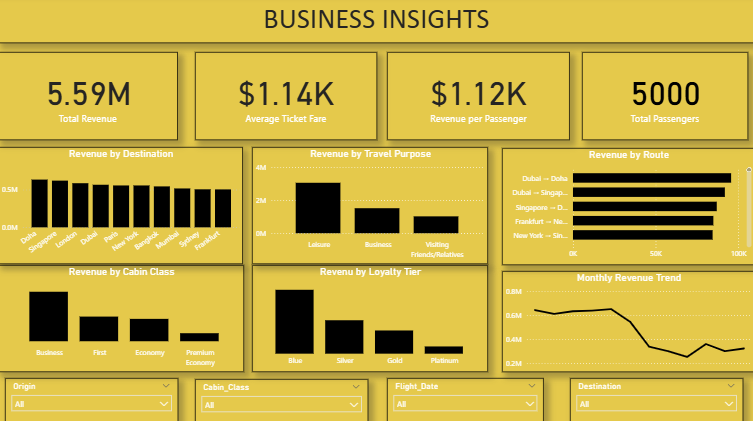

The dashboard page shown, as its layout file describes it:
{"tool":"powerbi","page":{"name":"Business Insights","canvas":[1280,720],"ordinal":3},"visuals":[{"type":"textbox","box":[0,0,1280,77.8],"z":1000},{"type":"card","fields":{"Values":["AirlineData.Total Revenue"]},"box":[0,93,304.4,148.8],"z":2000},{"type":"card","fields":{"Values":["AirlineData.Average Ticket Fare"]},"box":[333.1,93,307.7,148.8],"z":3000},{"type":"card","fields":{"Values":["AirlineData.Total Passengers"]},"box":[987.5,93,280.7,148.8],"z":4000},{"type":"card","fields":{"Values":["AirlineData.Revenue per Passenger"]},"box":[657.8,93,309.4,148.8],"z":5000},{"type":"clusteredColumnChart","title":"Revenue by Destination","fields":{"Category":["AirlineData.Destination"],"Y":["Sum(AirlineData.Revenue_USD)"]},"box":[0,253.6,414.3,197.8],"z":6000},{"type":"clusteredColumnChart","title":"Revenue by Cabin Class","fields":{"Category":["AirlineData.Cabin_Class"],"Y":["Sum(AirlineData.Revenue_USD)"]},"box":[0,453.2,416,180.9],"z":7000},{"type":"clusteredColumnChart","title":"Revenue by Travel Purpose","fields":{"Category":["AirlineData.Travel_Purpose"],"Y":["Sum(AirlineData.Revenue_USD)"]},"box":[429.5,253.6,399,197.8],"z":8000},{"type":"clusteredColumnChart","title":"Revenu by Loyalty Tier","fields":{"Category":["AirlineData.Loyalty_Tier"],"Y":["Sum(AirlineData.Revenue_USD)"]},"box":[429.5,453.2,399,180.9],"z":9000},{"type":"clusteredBarChart","title":" Revenue by Route","fields":{"Category":["AirlineData.Route"],"Y":["Sum(AirlineData.Revenue_USD)"]},"box":[852.2,255.3,427.8,197.8],"z":10000},{"type":"lineChart","title":"Monthly Revenue Trend","fields":{"Category":["AirlineData.Flight_Date.Variation.Date Hierarchy.Month"],"Y":["Sum(AirlineData.Revenue_USD)"]},"box":[852.2,463.3,427.8,170.8],"z":11000},{"type":"slicer","fields":{"Values":["AirlineData.Flight_Date"]},"box":[657.8,644.2,265.5,76.1],"z":12000},{"type":"slicer","fields":{"Values":["AirlineData.Cabin_Class"]},"box":[333.1,645.9,292.5,74.4],"z":13000},{"type":"slicer","fields":{"Values":["AirlineData.Destination"]},"box":[967.2,644.2,292.5,76.1],"z":14000},{"type":"slicer","fields":{"Values":["AirlineData.Origin"]},"box":[11.8,644.2,292.5,76.1],"z":15000}]}

Visuals, with their boxes in screenshot pixels (x1, y1, x2, y2), scaled from the page's 1280x720 canvas onto the 753x421 screenshot:
textbox: bbox(0, 0, 752, 45)
card - AirlineData.Total Revenue: bbox(0, 54, 179, 141)
card - AirlineData.Average Ticket Fare: bbox(196, 54, 377, 141)
card - AirlineData.Total Passengers: bbox(581, 54, 746, 141)
card - AirlineData.Revenue per Passenger: bbox(387, 54, 569, 141)
"Revenue by Destination" clusteredColumnChart: bbox(0, 148, 244, 264)
"Revenue by Cabin Class" clusteredColumnChart: bbox(0, 265, 245, 371)
"Revenue by Travel Purpose" clusteredColumnChart: bbox(253, 148, 487, 264)
"Revenu by Loyalty Tier" clusteredColumnChart: bbox(253, 265, 487, 371)
" Revenue by Route" clusteredBarChart: bbox(501, 149, 752, 265)
"Monthly Revenue Trend" lineChart: bbox(501, 271, 752, 371)
slicer - AirlineData.Flight_Date: bbox(387, 377, 543, 420)
slicer - AirlineData.Cabin_Class: bbox(196, 378, 368, 420)
slicer - AirlineData.Destination: bbox(569, 377, 741, 420)
slicer - AirlineData.Origin: bbox(7, 377, 179, 420)
